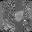people: (13, 11, 24, 22)
